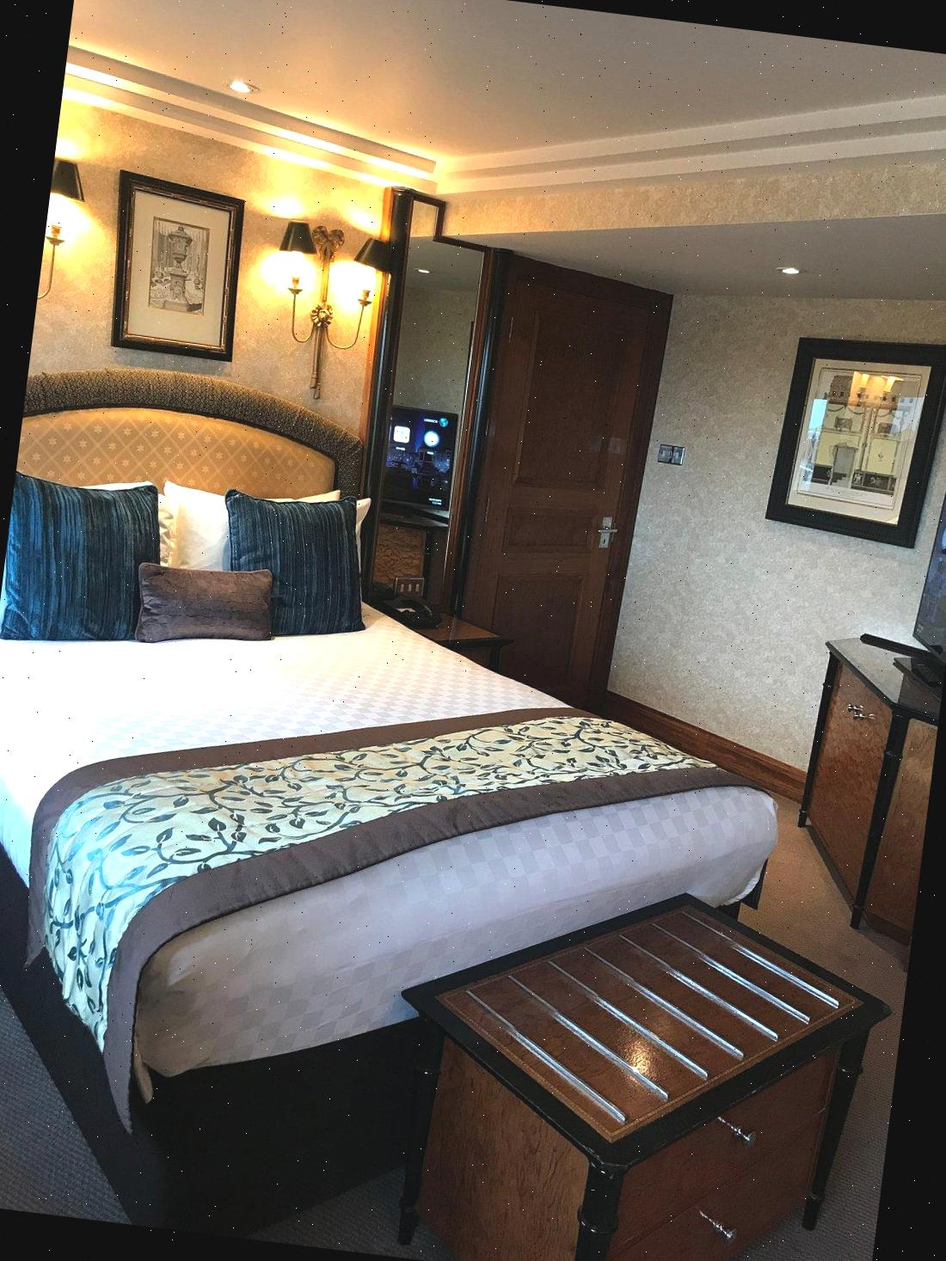clean_bed: (0, 354, 414, 1054)
organised_pillow: (0, 453, 372, 677)
